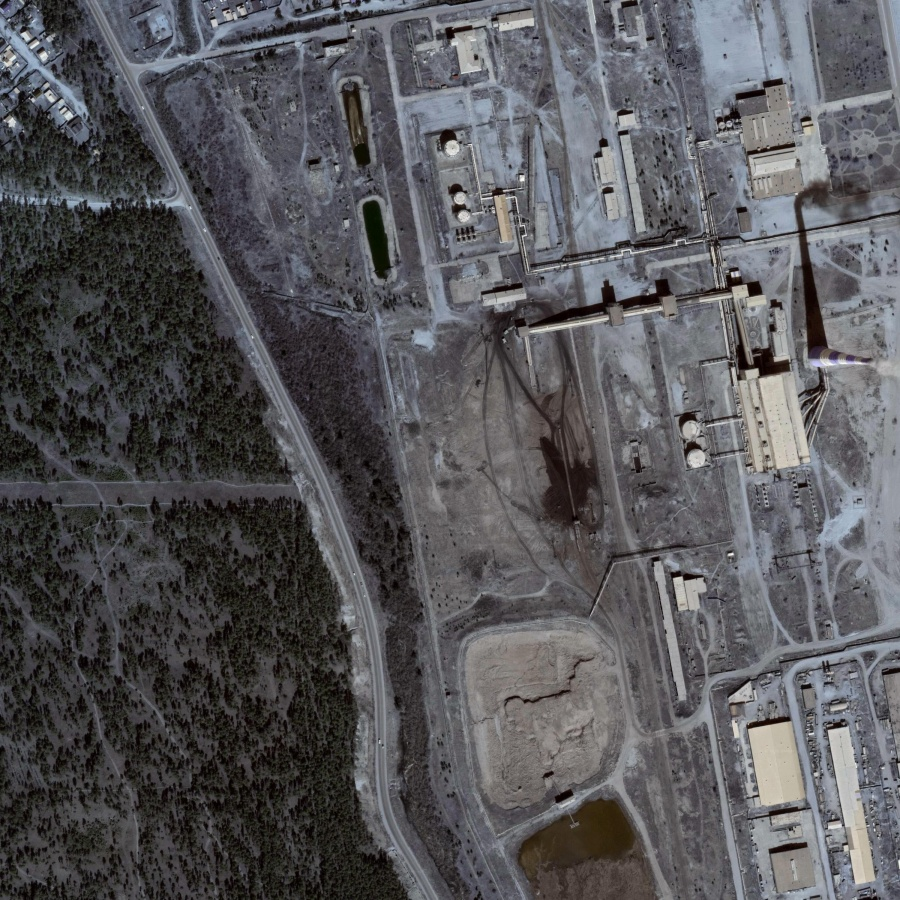PowerPlant: (419, 116, 897, 544)
